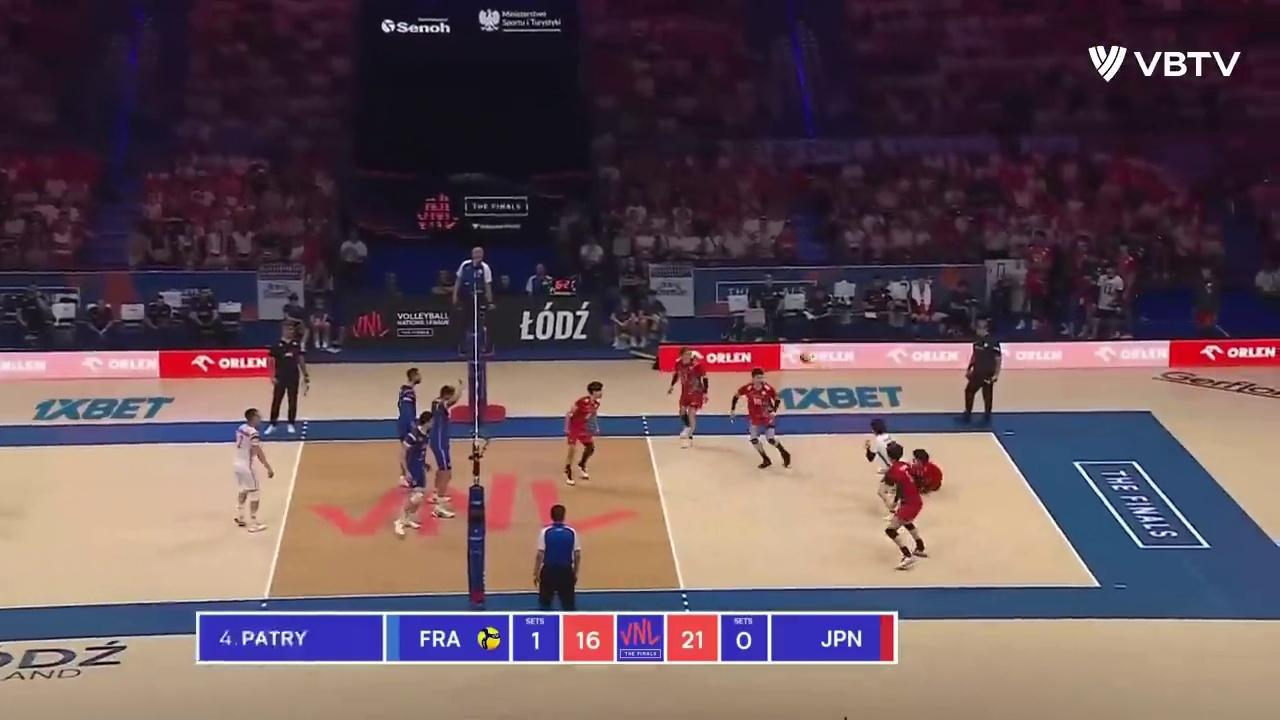ball: (800, 351, 812, 364)
